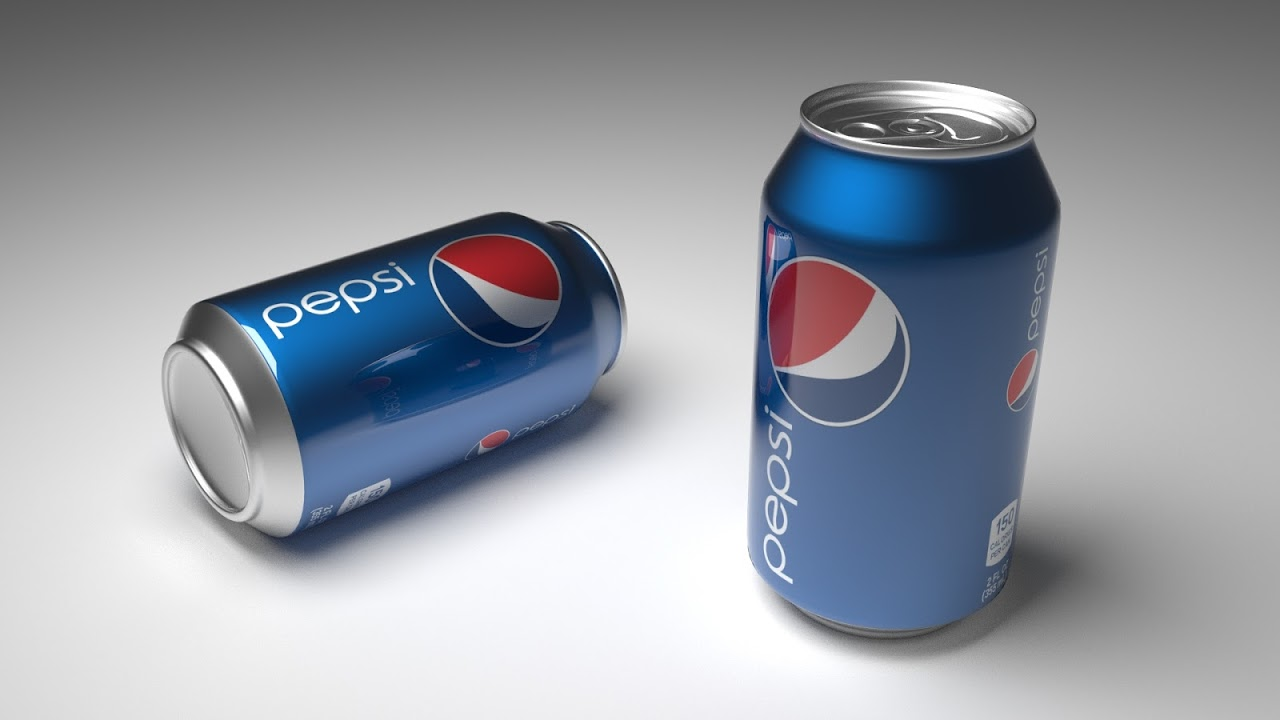pepsi_can: (748, 77, 1063, 642), (129, 206, 637, 543)
